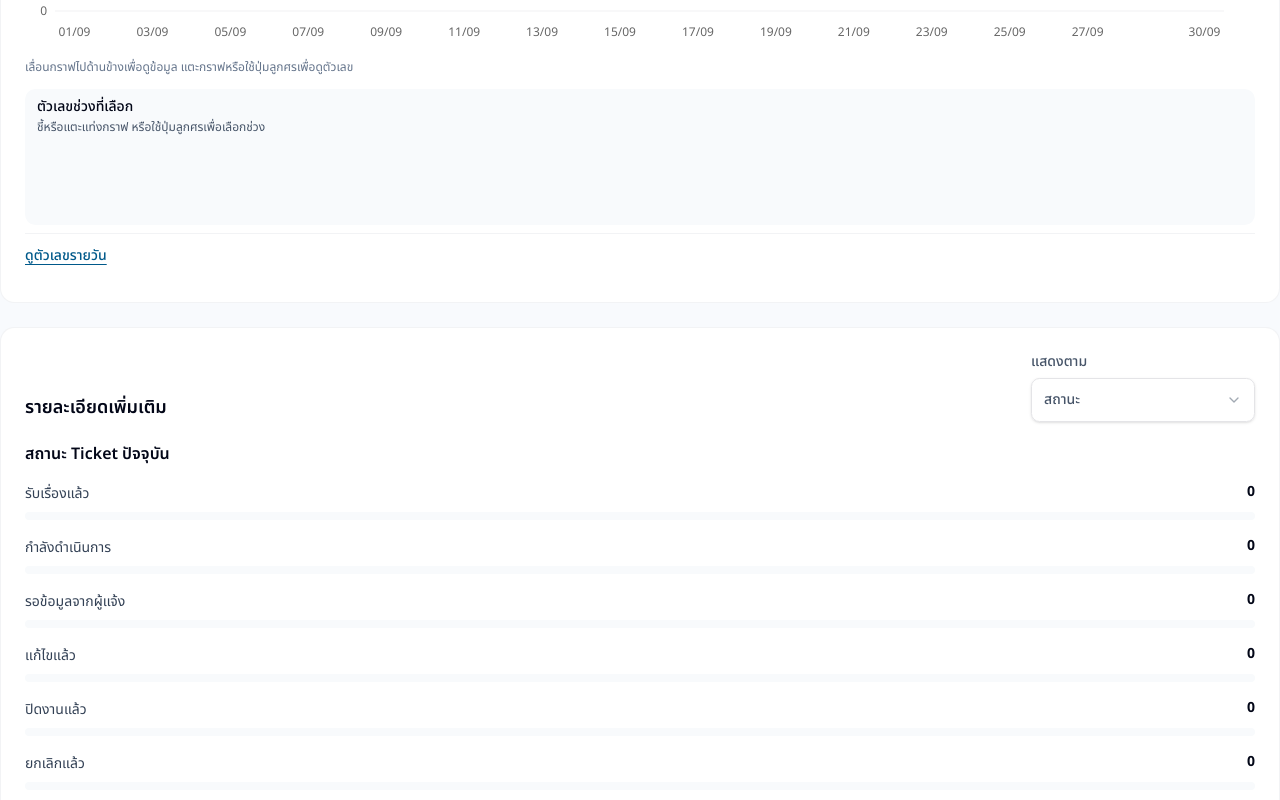
Test: IT analytics Dashboard presentation › shows zero data as a valid empty dashboard without rendering average metrics
This screenshot has width=1280, height=800.
(page scrolled)
Expected: the text "ยังไม่มีข้อมูล" is not shown
Press Enter in the dropdown named "เลือกมิติรายละเอียด", box [1031,378,1255,422]
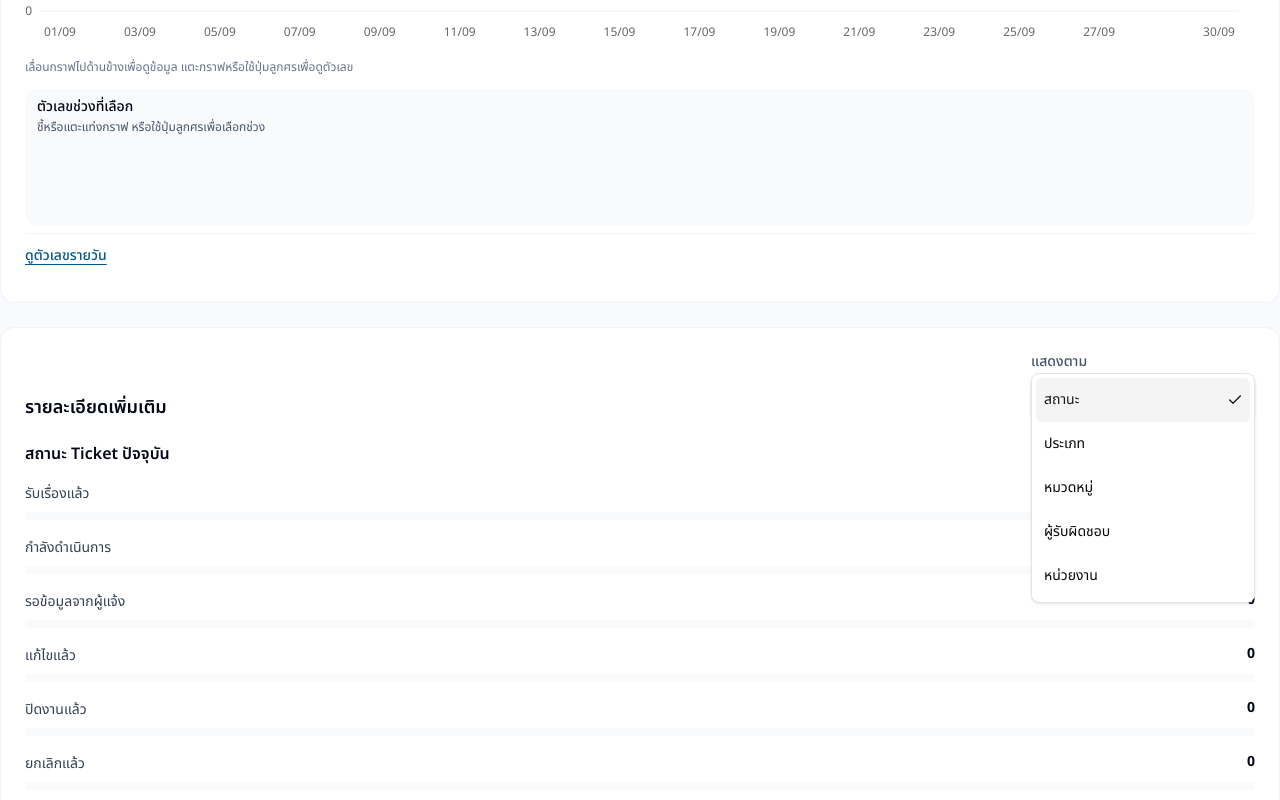
Click the option "หมวดหมู่".
click(1069, 488)  # box [1044,477,1093,498]
(page scrolled)
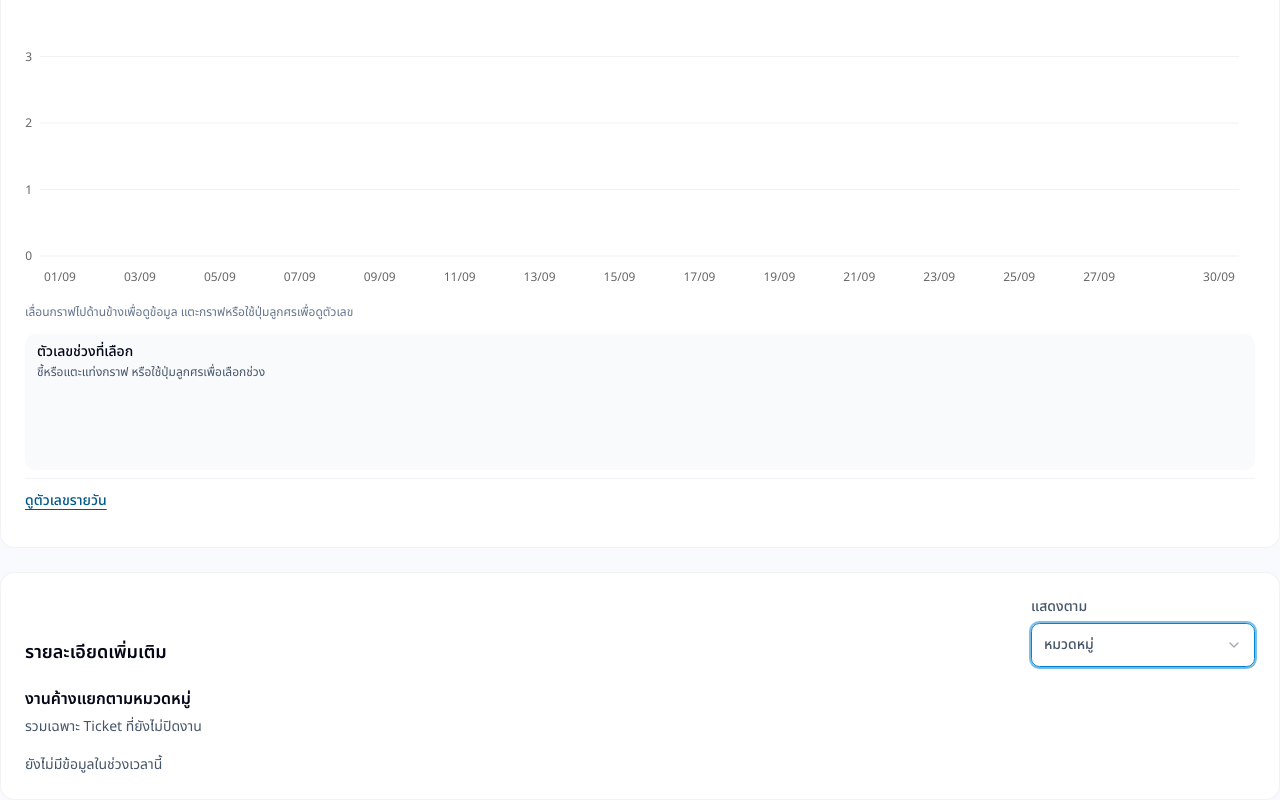
Now the text "ยังไม่มีข้อมูลในช่วงเวลานี้" is shown, box [25,754,162,775]
